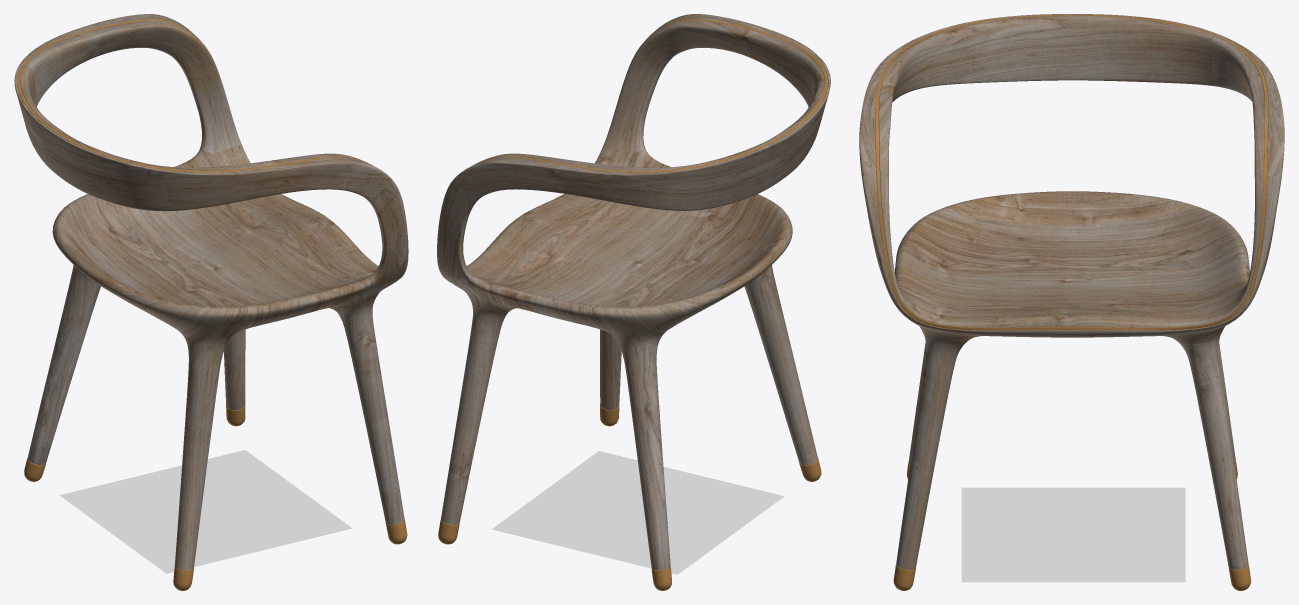
3 views of the same model, side by side, from view 1: azimuth 30°, elevation 25°; view 2: azimuth 150°, elevation 25°; view 3: azimuth 270°, elevation 25° (orthographic). The views are drawn at different scales.
Parts seen in each view (by area): view 1: 1_low.001, Plane; view 2: 1_low.001, Plane; view 3: 1_low.001, Plane.
Boxes of the visible parts, <box> form: 1_low.001: <box>14,14,408,590</box>; Plane: <box>59,450,352,573</box>; 1_low.001: <box>437,14,830,590</box>; Plane: <box>491,451,784,574</box>; 1_low.001: <box>859,14,1284,590</box>; Plane: <box>961,487,1185,582</box>.
Size of the model in its own units: 1.53 by 2.17 by 1.9.
1 material, 1 textured.
